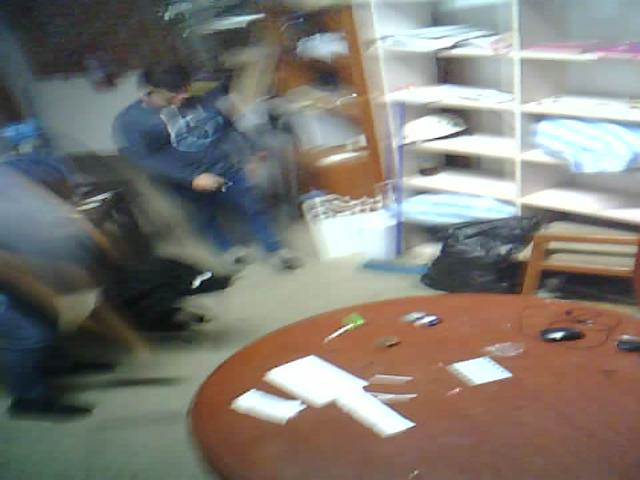person: (108, 39, 313, 275), (3, 153, 152, 449)
